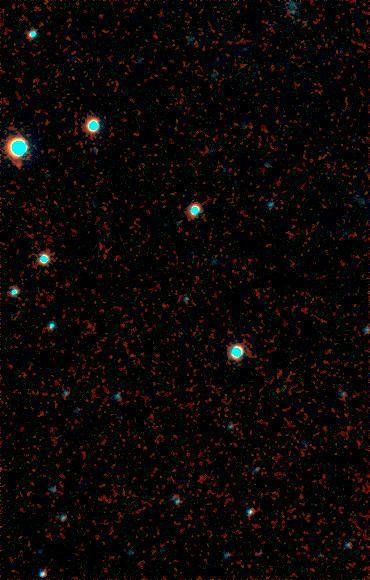star: (1, 148, 31, 178)
